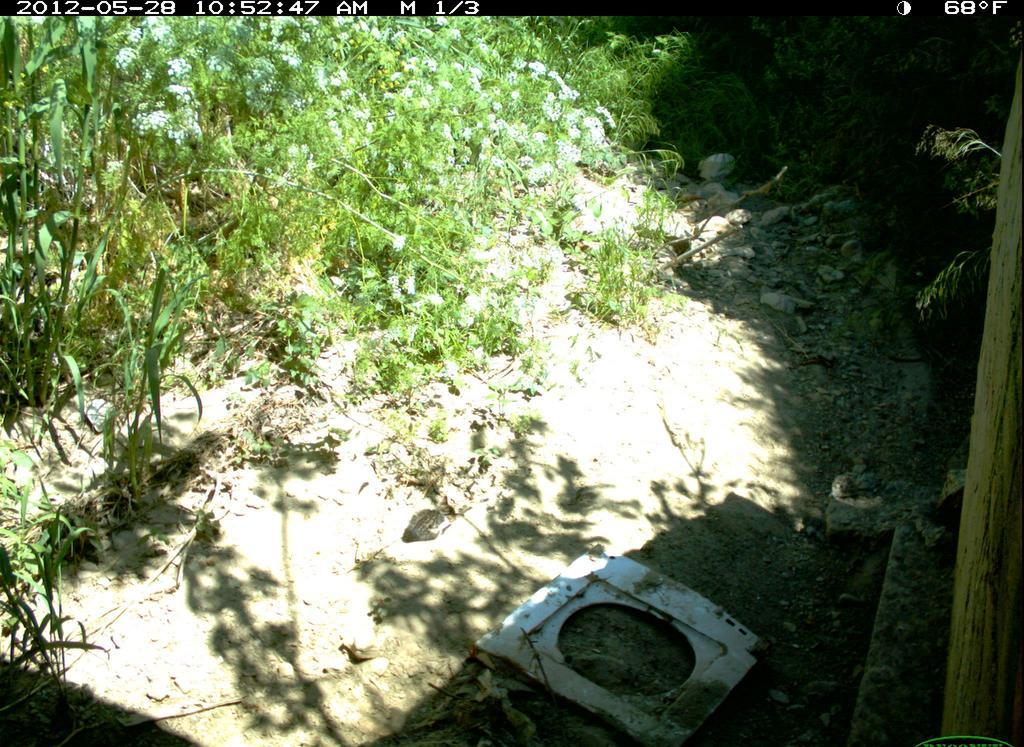cat: (401, 493, 466, 553)
